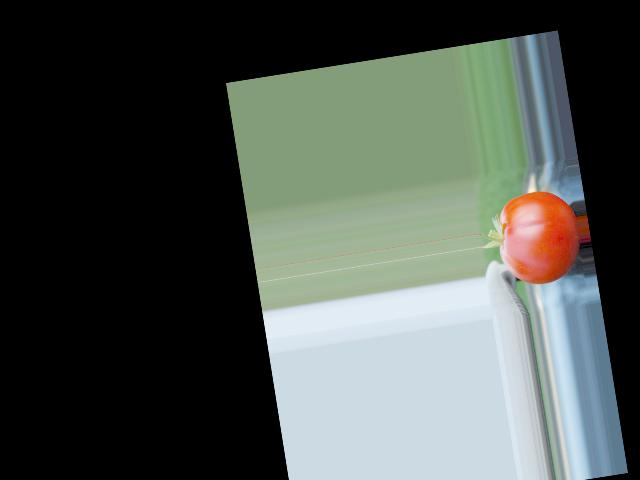tomato: (491, 185, 585, 289)
